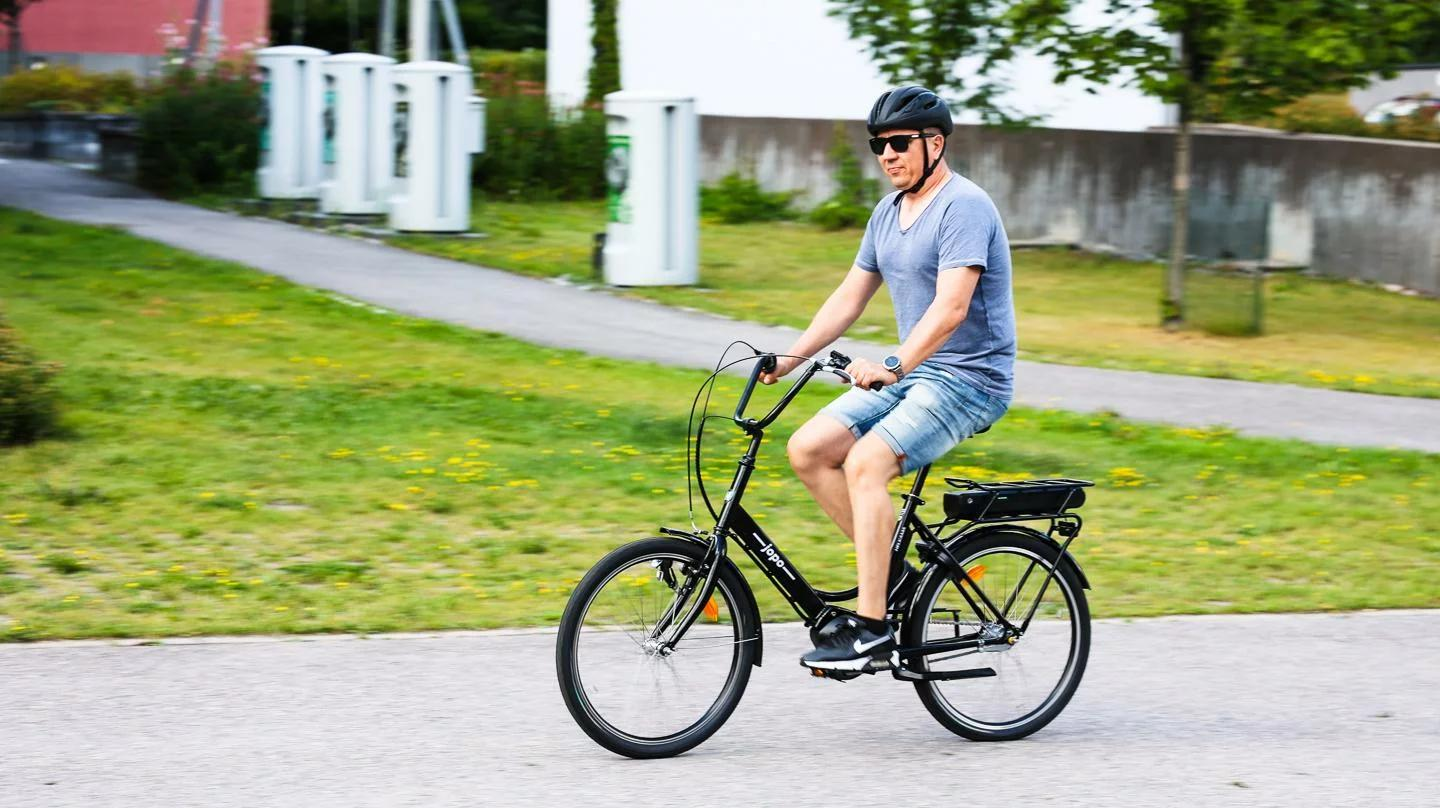bicycle: (546, 336, 1111, 781)
